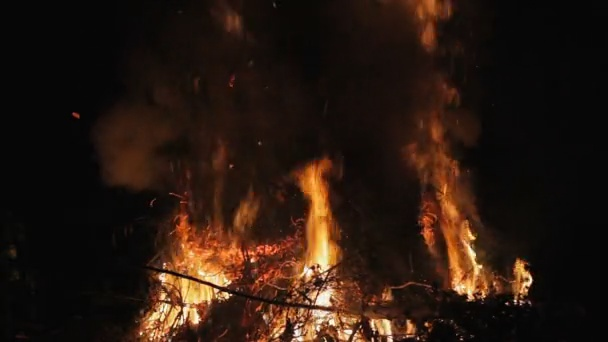fire: (414, 85, 485, 298), (141, 231, 229, 339), (290, 159, 341, 339), (511, 257, 532, 305), (370, 320, 392, 335)
